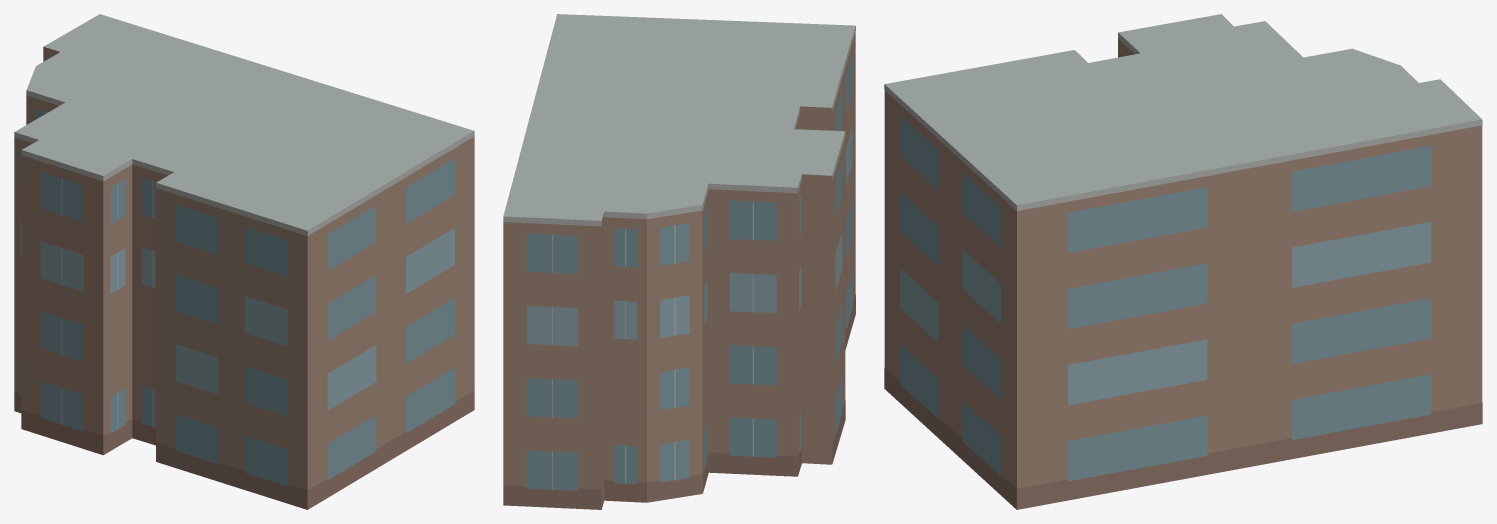
The model's file is survey-upis-32670528.glb.
3 views of the same model, side by side, from view 1: azimuth 30°, elevation 25°; view 2: azimuth 150°, elevation 25°; view 3: azimuth 270°, elevation 25° (orthographic). The views are drawn at different scales.
Parts seen in each view (by area): view 1: survey-upis-32670528.tmp; view 2: survey-upis-32670528.tmp; view 3: survey-upis-32670528.tmp.
Boxes of the visible parts, bbox=[...] form: survey-upis-32670528.tmp: bbox=[14, 14, 474, 509]; survey-upis-32670528.tmp: bbox=[503, 14, 855, 509]; survey-upis-32670528.tmp: bbox=[884, 14, 1482, 509].
Size of the model in its own units: 17.05 by 12.65 by 22.52.
